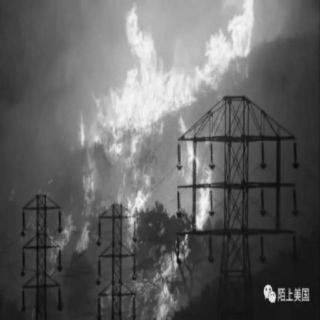Fire: (62, 2, 260, 318)
